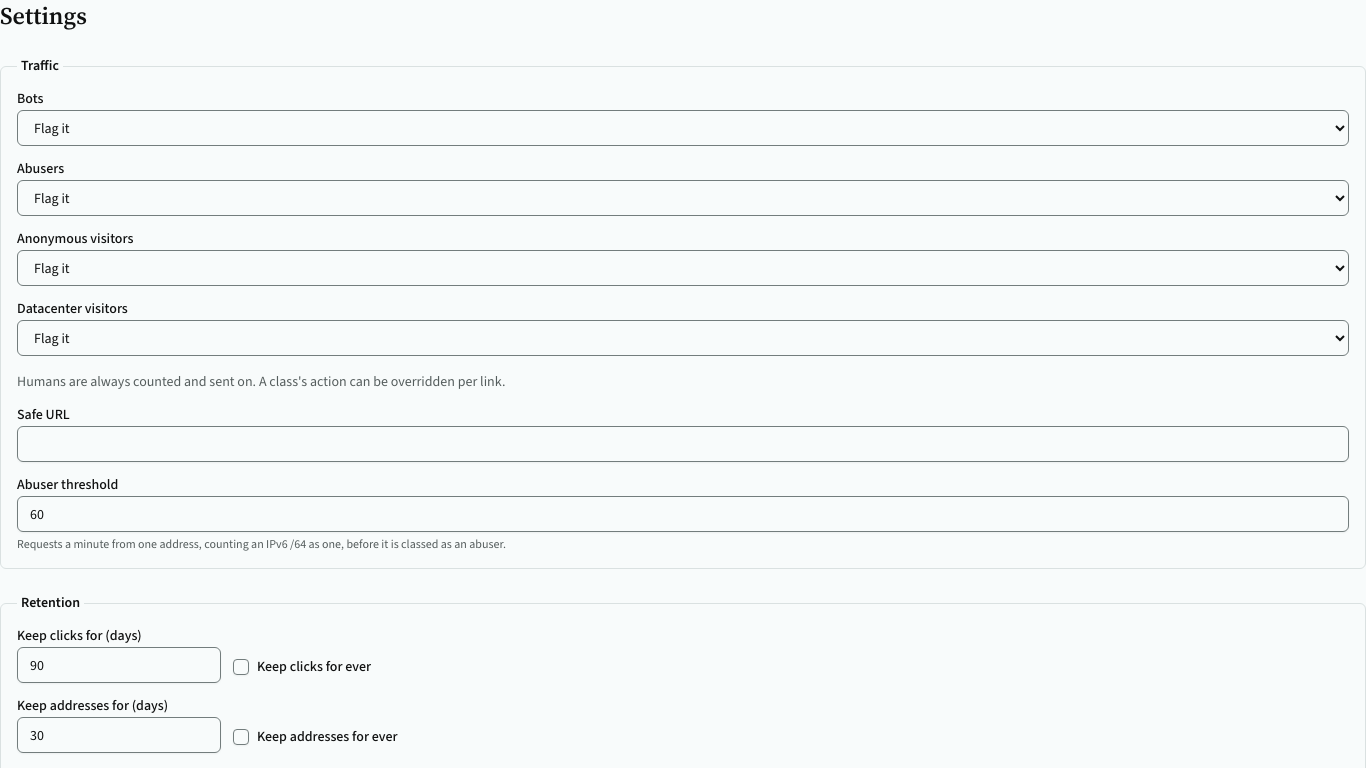
Test: the settings screen › shows a refusal met while confirming inside the dialog, which stays open
Replace the text in the field labelled "Keep clicks for (days)" with "30" at (119, 665), box x1=17 y1=647 x2=221 y2=683
(page scrolled)
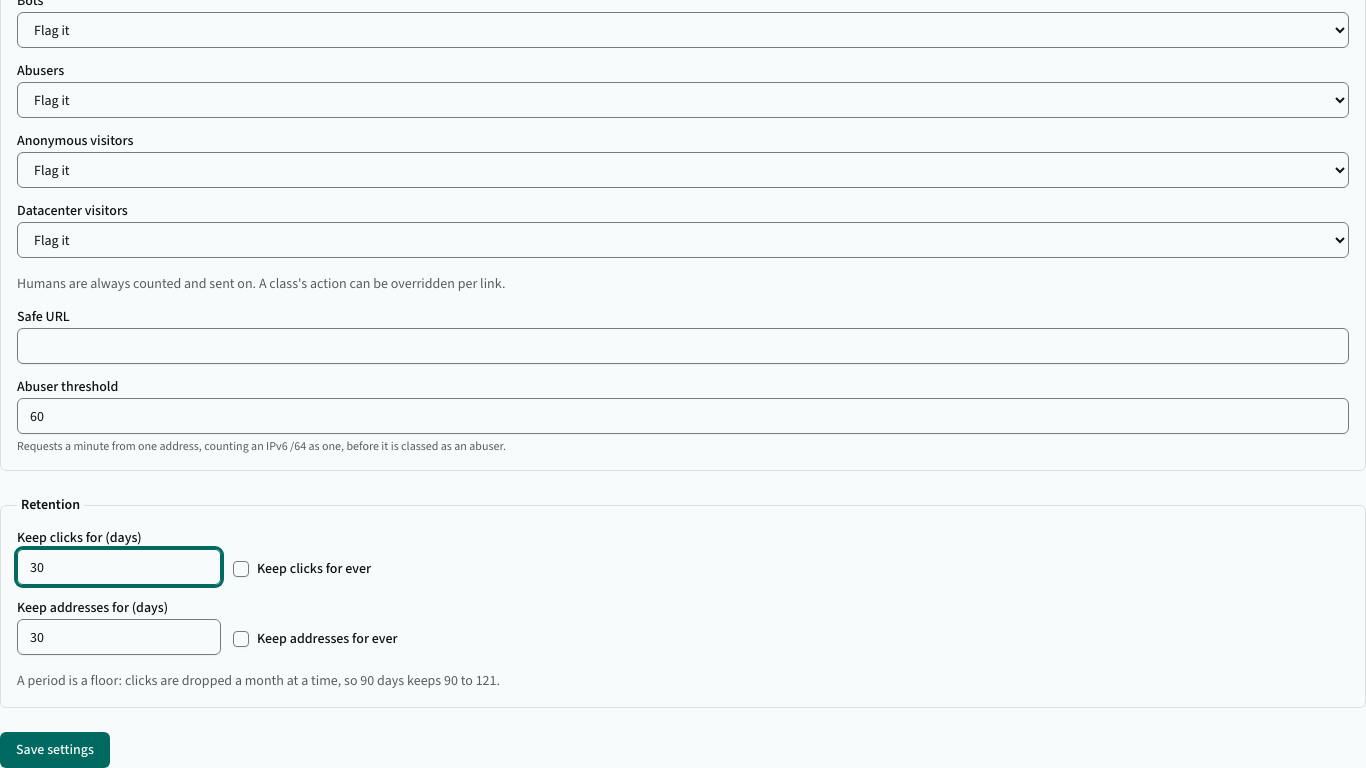
Click the button "Save settings" at (55, 750), box x1=0 y1=732 x2=110 y2=767
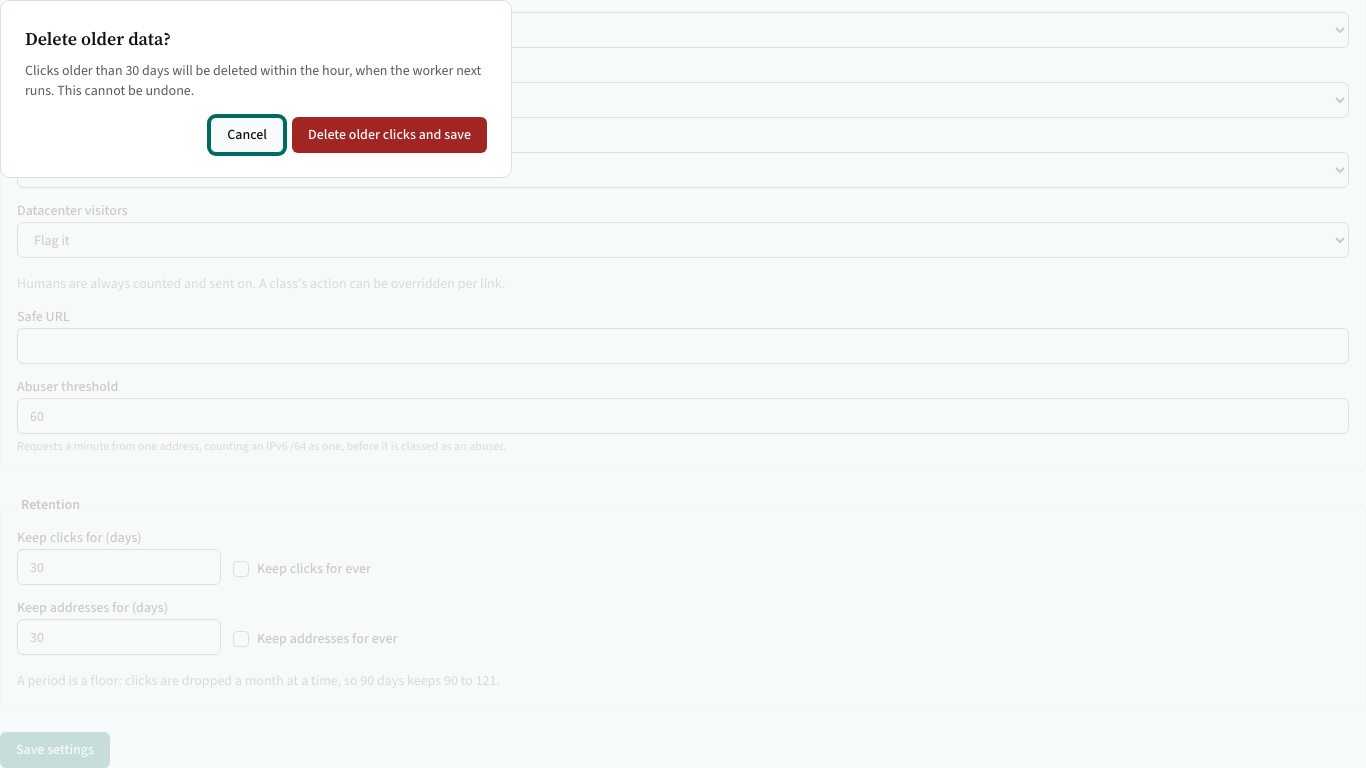
Click the button "Delete older clicks and save" at (390, 135), box x1=292 y1=117 x2=487 y2=153
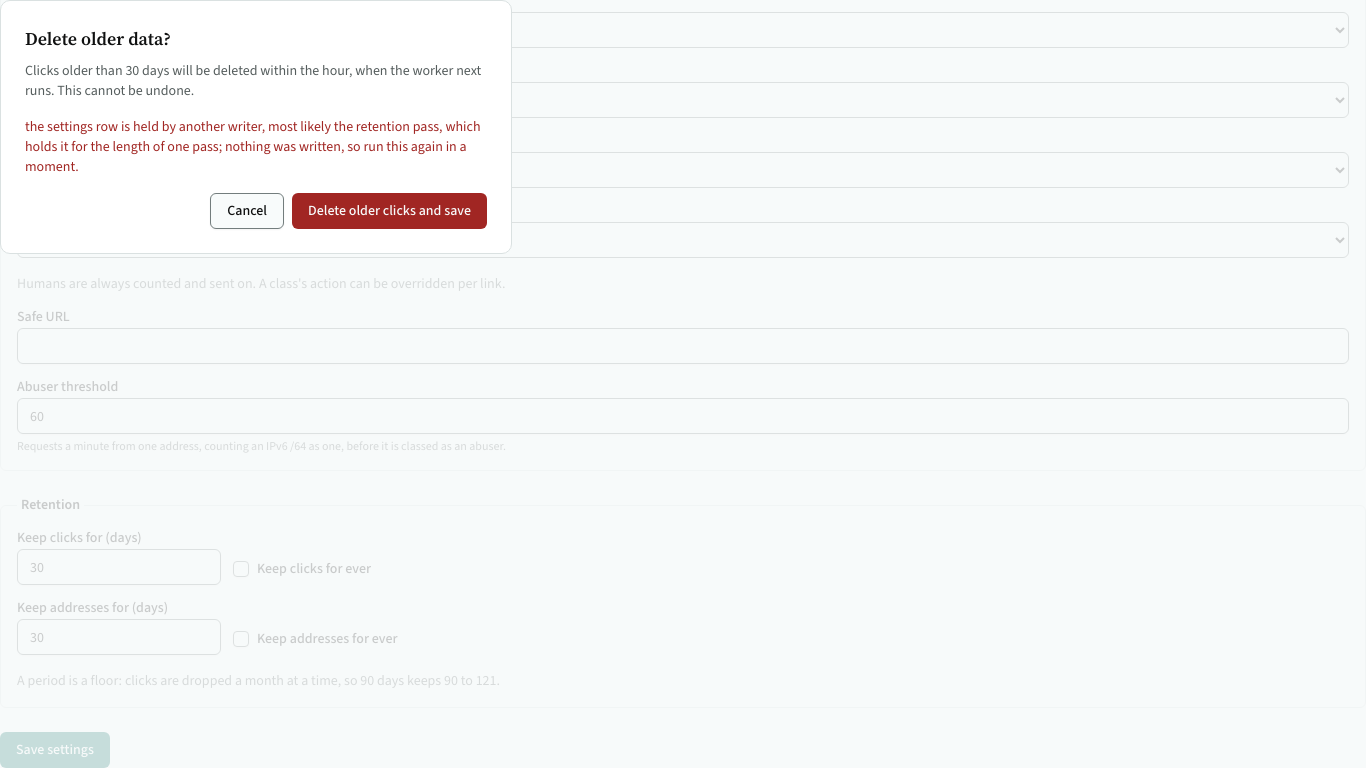
Check: the dialog is shown, box x1=0 y1=0 x2=512 y2=254
Check: the message shows "most likely the retention pass", box x1=25 y1=117 x2=480 y2=176
